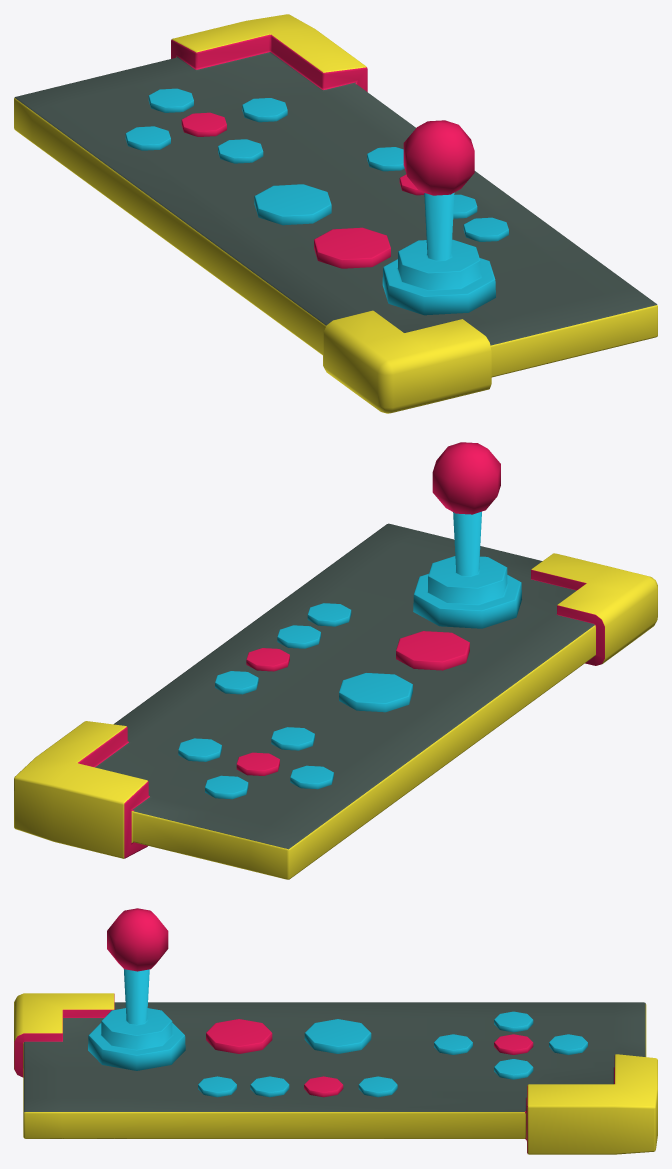
The model's file is SM_Table2.fbx.
The picture shows the model from 3 angles, top to bottom: view 1: azimuth 30°, elevation 25°; view 2: azimuth 150°, elevation 25°; view 3: azimuth 270°, elevation 25°; orthographic projection. The views are drawn at different scales.
Visible parts, largest first — view 1: SM_Table2; view 2: SM_Table2; view 3: SM_Table2.
Boxes of the visible parts, x1,y1,x2,y2 form: SM_Table2: [14, 14, 657, 413]; SM_Table2: [14, 442, 657, 879]; SM_Table2: [14, 908, 657, 1154].
Bounding box in the file's own units: 13.59 × 31.02 × 9.7.
Materials: 1 (1 with a texture image).
